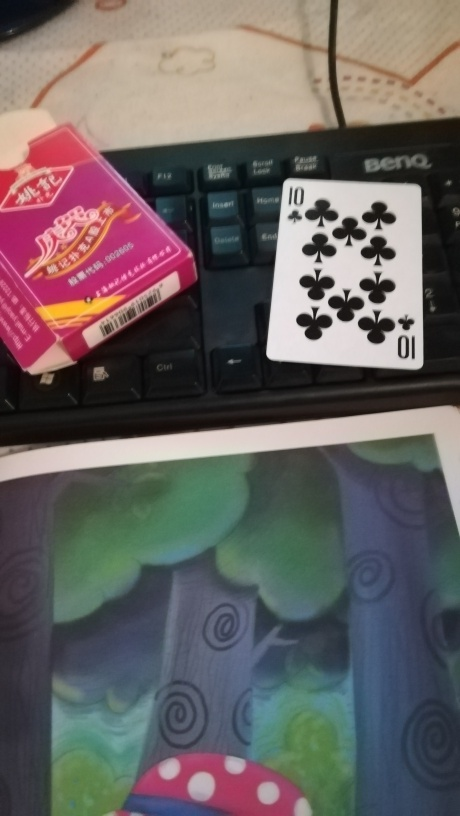mh 10: (266, 175, 425, 372)
